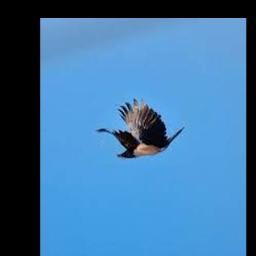Crow: (95, 100, 184, 159)
